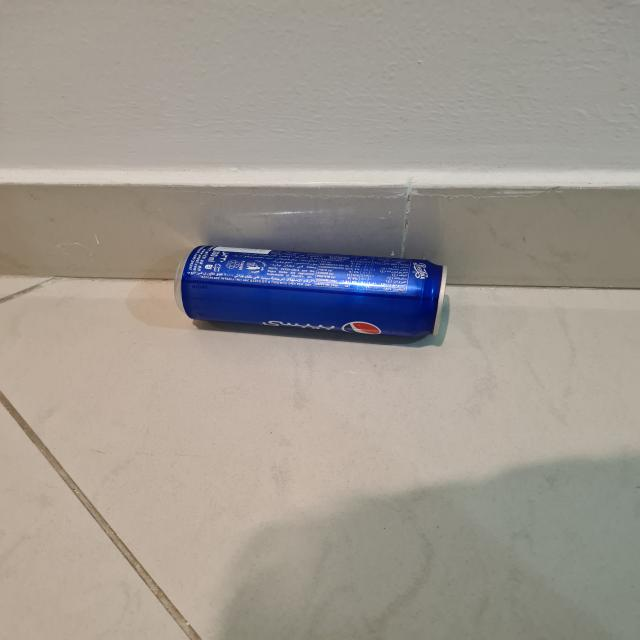non-organic waste: (166, 242, 455, 350)
